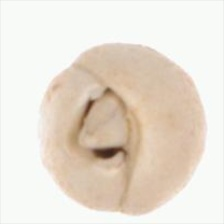L3: (72, 83, 143, 169)
L4: (39, 41, 207, 216)
